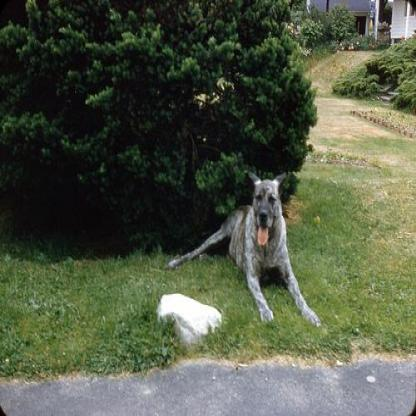Great_Dane: (165, 170, 321, 326)
